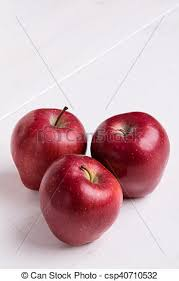apple: (41, 157, 123, 240), (94, 111, 169, 199), (10, 110, 89, 189)
